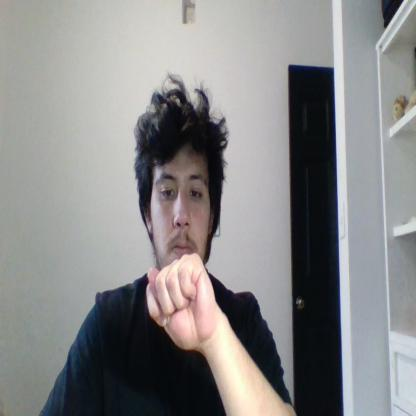T: (146, 250, 216, 350)
